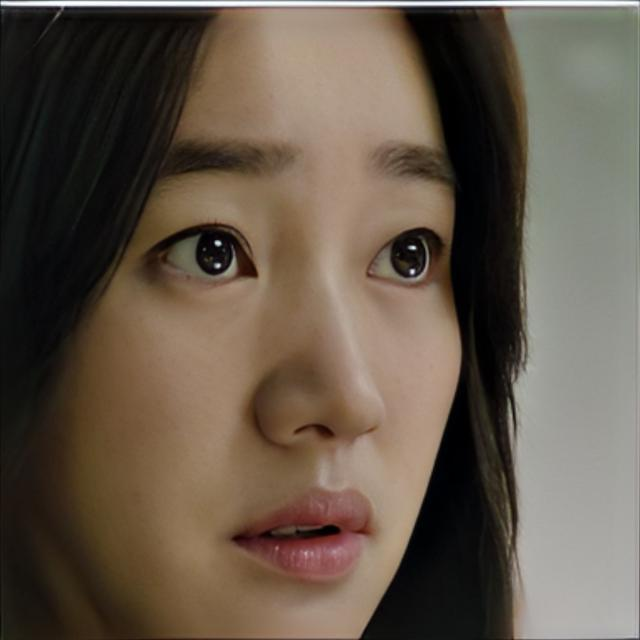fear: (0, 7, 465, 639)
